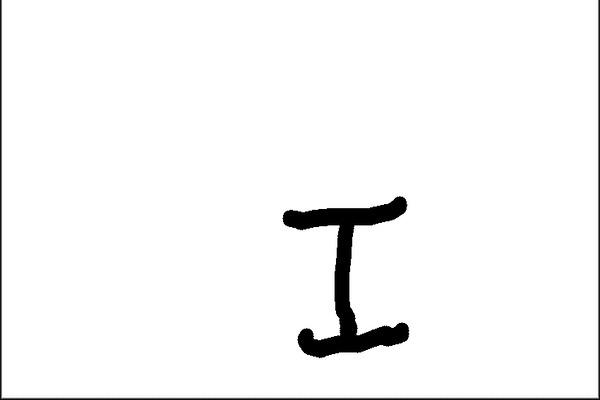i: (269, 194, 417, 362)
